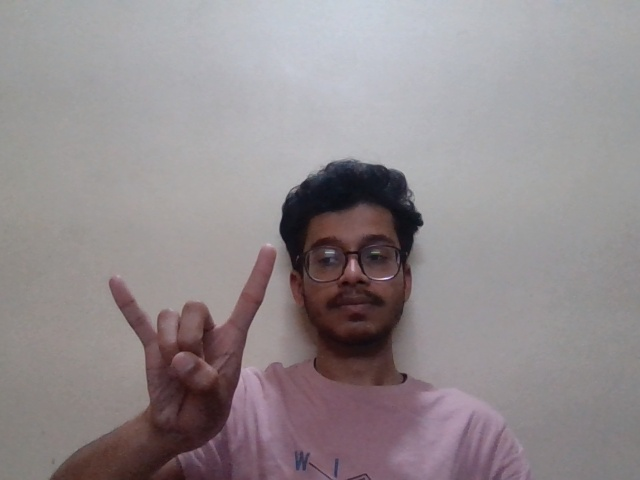i-love-you: (99, 246, 287, 430)
